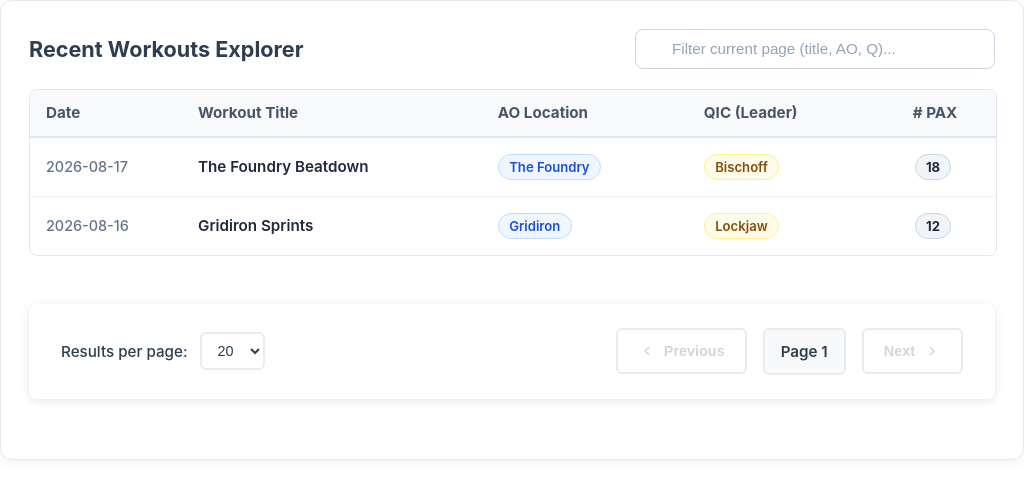
Test: BigDataWorkouts Explorer Component › displays empty state when no matching results
The image size is (1024, 477).
expect the link "The Foundry Beatdown" is shown: met, box [198,158,368,176]
Type "Nonexistent Workout" into the field with placeholder "Filter current page (title, AO, Q)..." at (815, 49), box [635,29,995,69]
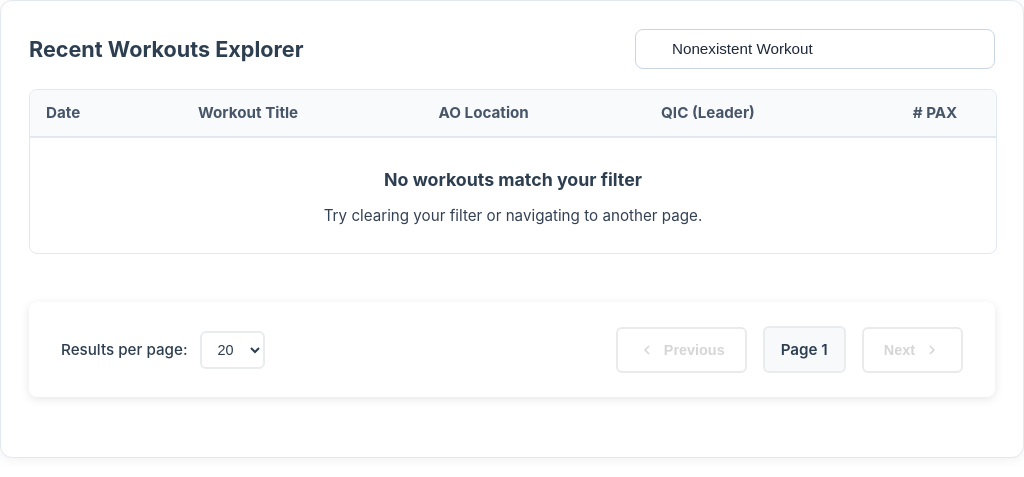
expect the heading "No workouts match your filter" is shown: met, box [384,169,642,190]
